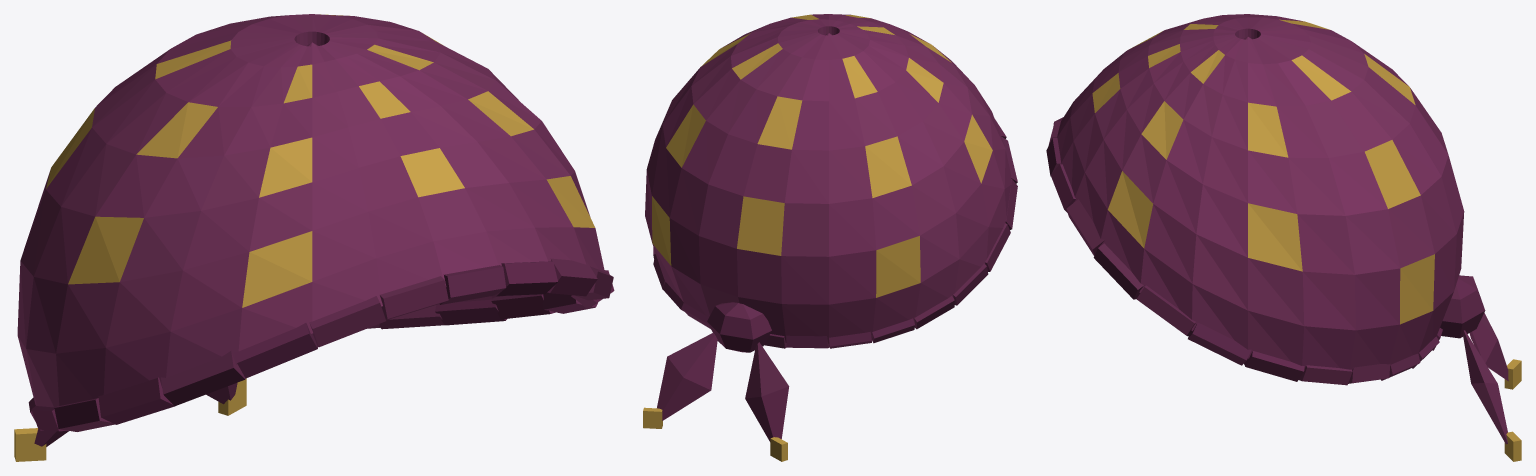
Rendered from wear_headscarf.glb.
3 renders of one model, left to right at view 1: azimuth 30°, elevation 25°; view 2: azimuth 150°, elevation 25°; view 3: azimuth 270°, elevation 25°, orthographic. The views are drawn at different scales.
Parts seen in each view (by area): view 1: wear_headscarf; view 2: wear_headscarf; view 3: wear_headscarf.
Boxes of the visible parts, left/top/right/bottom form: wear_headscarf: left=14, top=14, right=614, bottom=461; wear_headscarf: left=643, top=14, right=1017, bottom=461; wear_headscarf: left=1046, top=14, right=1521, bottom=461.
Bounding box in the file's own units: 0.5871 × 0.5731 × 0.6386.
